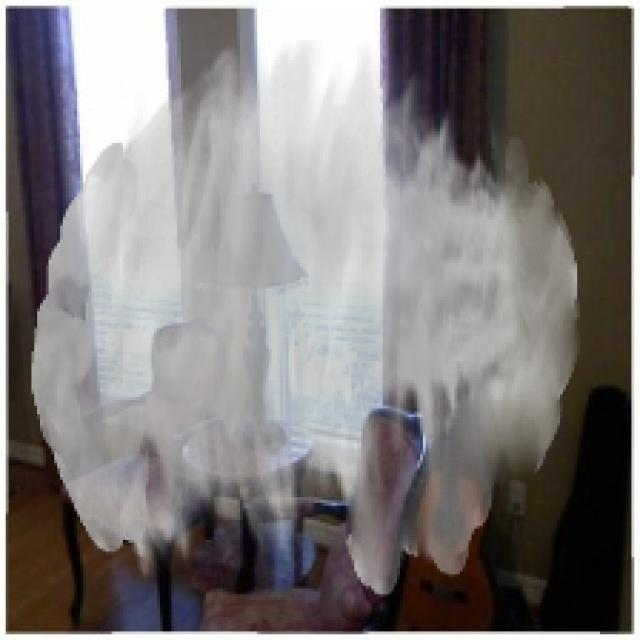smoke: (31, 40, 580, 597)
